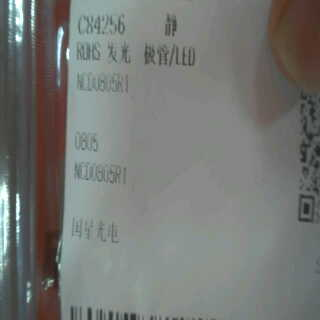LED: (100, 37, 205, 73)
